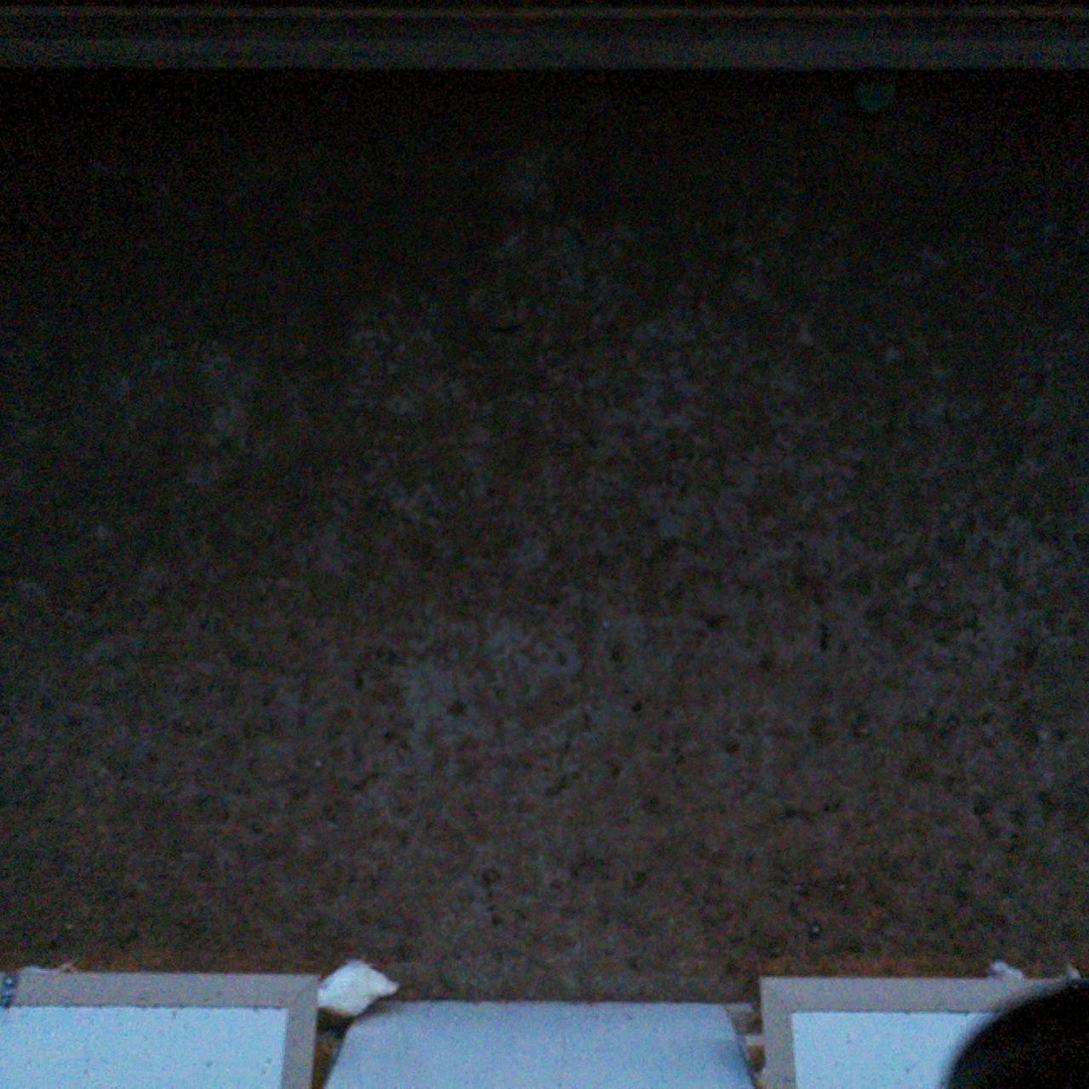chicken: (313, 951, 403, 1024)
